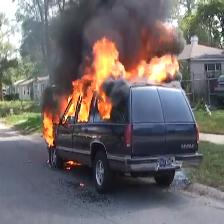fire: (64, 22, 179, 123), (42, 112, 54, 147)
